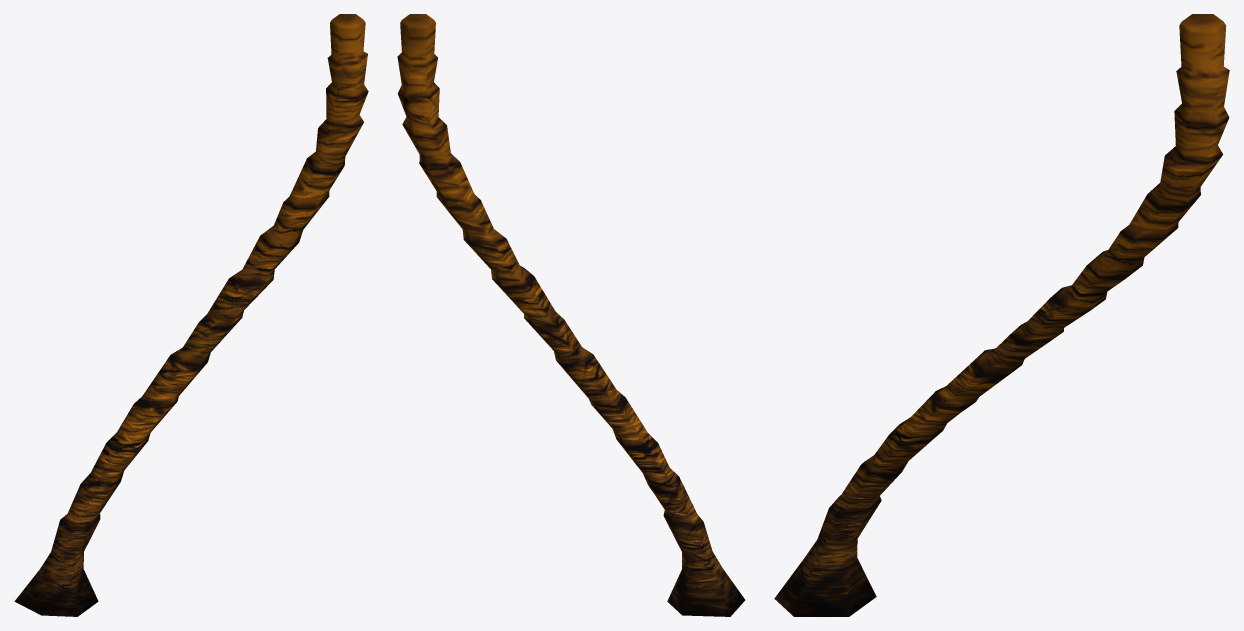
The model's file is Palme_D01.fbx.
3 views of the same model, side by side, from view 1: azimuth 30°, elevation 25°; view 2: azimuth 150°, elevation 25°; view 3: azimuth 330°, elevation 25° (orthographic). The views are drawn at different scales.
Visible parts, largest first — view 1: PalbeSubs.002; view 2: PalbeSubs.002; view 3: PalbeSubs.002.
Part boxes in pixels (x1,y1,x2,y2): PalbeSubs.002: (14,14,368,616); PalbeSubs.002: (397,14,745,616); PalbeSubs.002: (774,14,1229,616).
Bounding box in the file's own units: 1035 × 1492 × 223.
1 material, 1 textured.
